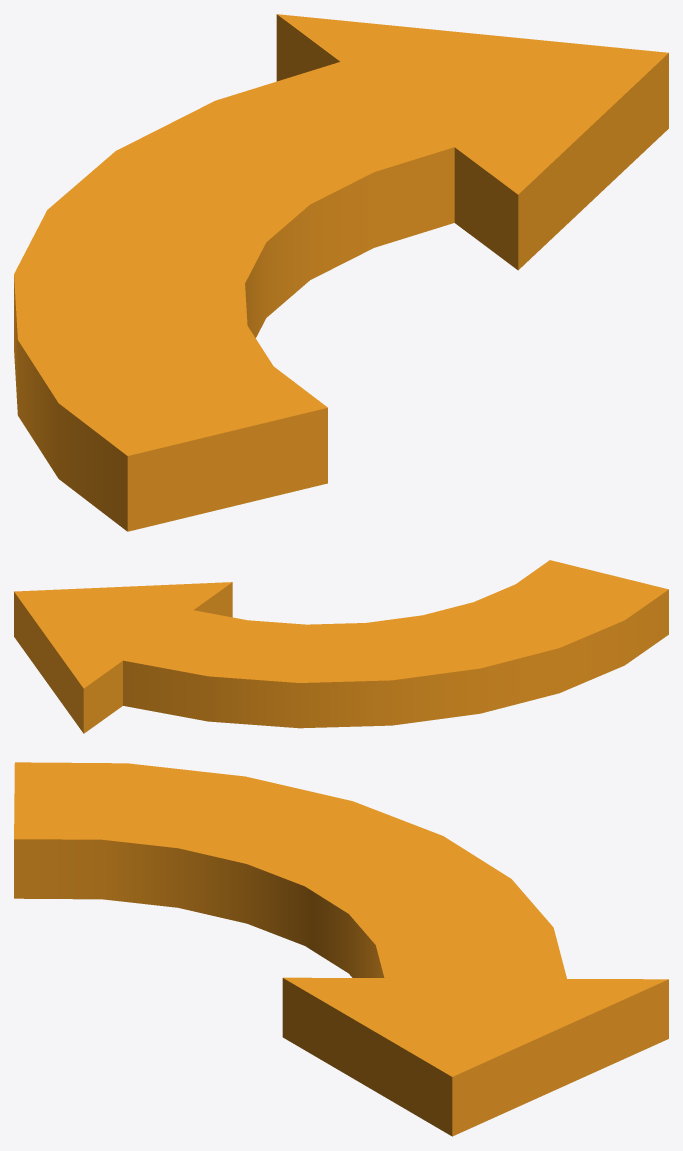
File: SM_Icon_Arrow_Long_Curve_02.fbx
The picture shows the model from 3 angles, top to bottom: view 1: azimuth 30°, elevation 25°; view 2: azimuth 150°, elevation 25°; view 3: azimuth 270°, elevation 25°; orthographic projection. The views are drawn at different scales.
Parts seen in each view (by area): view 1: SM_Icon_Arrow_Long_Curve_02; view 2: SM_Icon_Arrow_Long_Curve_02; view 3: SM_Icon_Arrow_Long_Curve_02.
Boxes of the visible parts, x1=… form: SM_Icon_Arrow_Long_Curve_02: x1=14, y1=14, x2=668, y2=531; SM_Icon_Arrow_Long_Curve_02: x1=14, y1=560, x2=668, y2=733; SM_Icon_Arrow_Long_Curve_02: x1=14, y1=762, x2=668, y2=1136.
Bounding box in the file's own units: 87.25 × 7.71 × 76.75.
